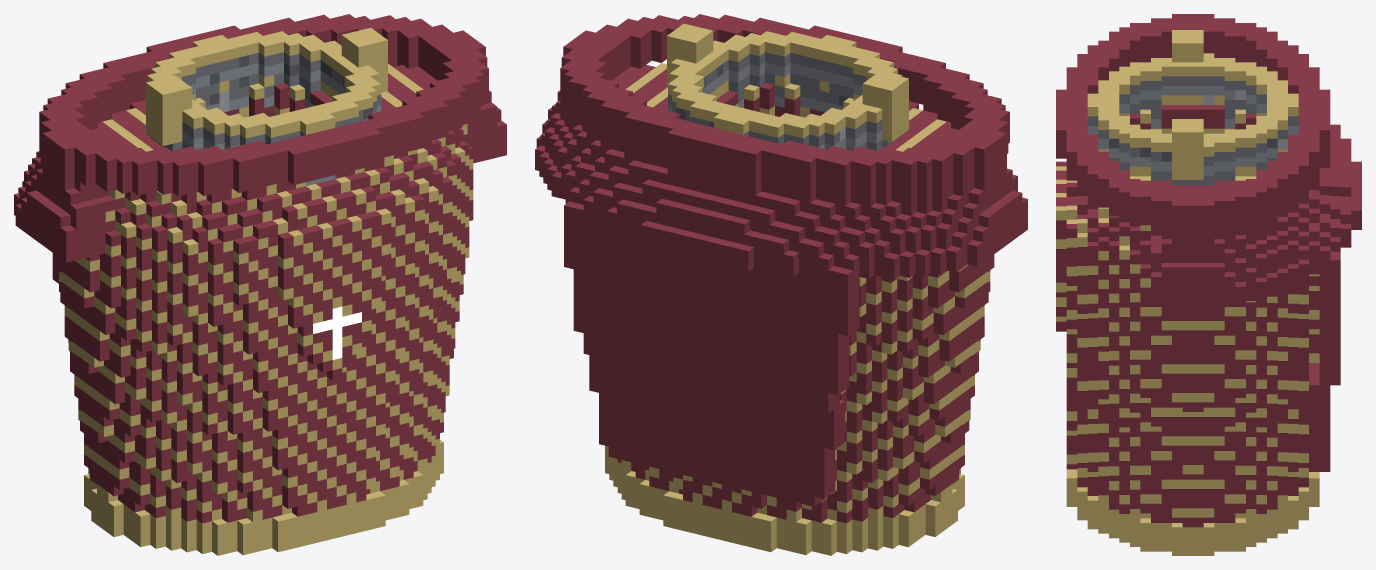
Rendered from scale_epic_chest.glb.
3 views of the same model, side by side, from view 1: azimuth 30°, elevation 25°; view 2: azimuth 150°, elevation 25°; view 3: azimuth 270°, elevation 25° (orthographic). The views are drawn at different scales.
Parts seen in each view (by area): view 1: scale_epic_chest; view 2: scale_epic_chest; view 3: scale_epic_chest.
Boxes of the visible parts, x1=… form: scale_epic_chest: x1=14, y1=14, x2=506, y2=555; scale_epic_chest: x1=535, y1=14, x2=1027, y2=555; scale_epic_chest: x1=1056, y1=14, x2=1361, y2=555.
Size of the model in its own units: 0.54 by 0.504 by 0.348.
